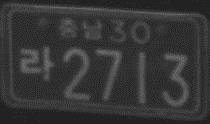0: (130, 19, 151, 43)
1: (130, 52, 156, 104)
2: (62, 47, 92, 101)
3: (161, 52, 190, 108), (108, 18, 128, 43)
7: (95, 48, 122, 102)
라: (19, 45, 55, 81)
충남_O: (58, 17, 103, 42)
